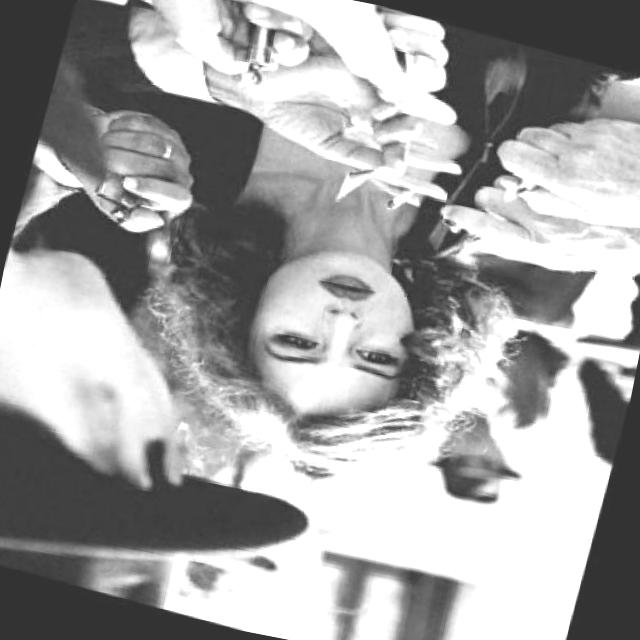cigarette: (377, 176, 425, 218)
